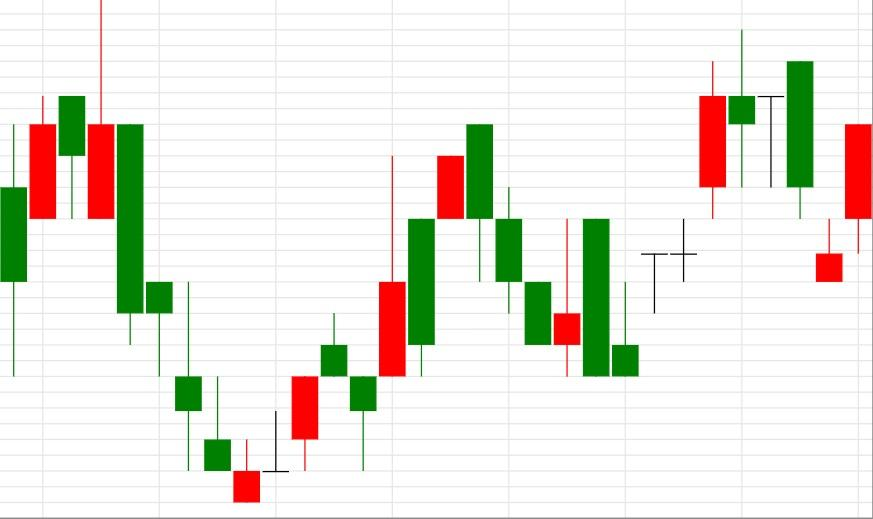bearish_engulfing_fall: (233, 124, 494, 503)
inverse_hammer_rise: (465, 123, 639, 378)
three_black_crows_fall: (233, 123, 552, 503)
